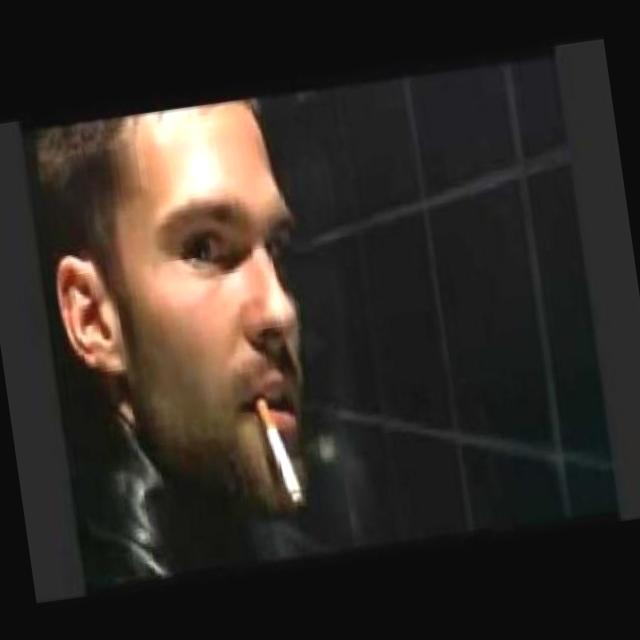smoke: (242, 365, 323, 516)
